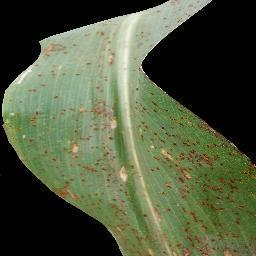Corn_Common_Rust: (0, 10, 137, 255), (136, 96, 256, 256), (150, 0, 210, 50), (136, 0, 150, 96), (150, 77, 171, 97)
